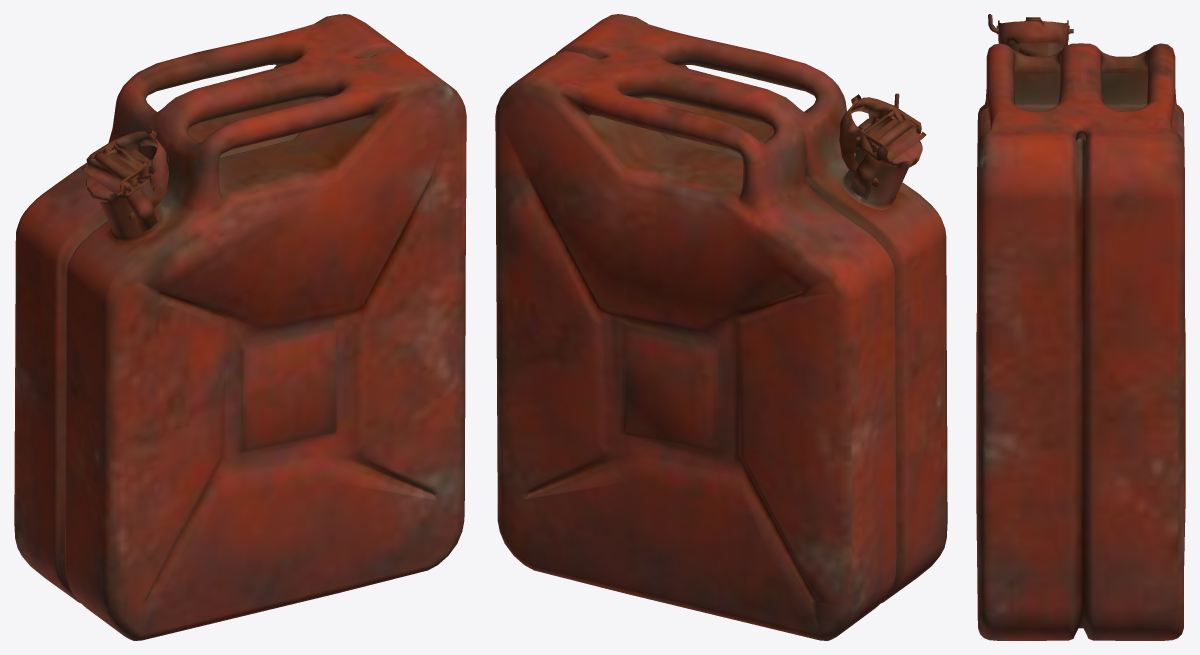
The model's file is metal_jerrycan_lod1.glb.
The picture shows the model from 3 angles, left to right: view 1: azimuth 30°, elevation 25°; view 2: azimuth 150°, elevation 25°; view 3: azimuth 270°, elevation 25°; orthographic projection. The views are drawn at different scales.
Visible parts, largest first — view 1: metal_jerrycan; view 2: metal_jerrycan; view 3: metal_jerrycan.
Boxes of the visible parts, x1,y1,x2,y2 form: metal_jerrycan: (14, 14, 466, 640); metal_jerrycan: (495, 14, 947, 640); metal_jerrycan: (976, 14, 1185, 640).
Size of the model in its own units: 0.35 by 0.4548 by 0.1717.
Materials: 1 (1 with a texture image).
